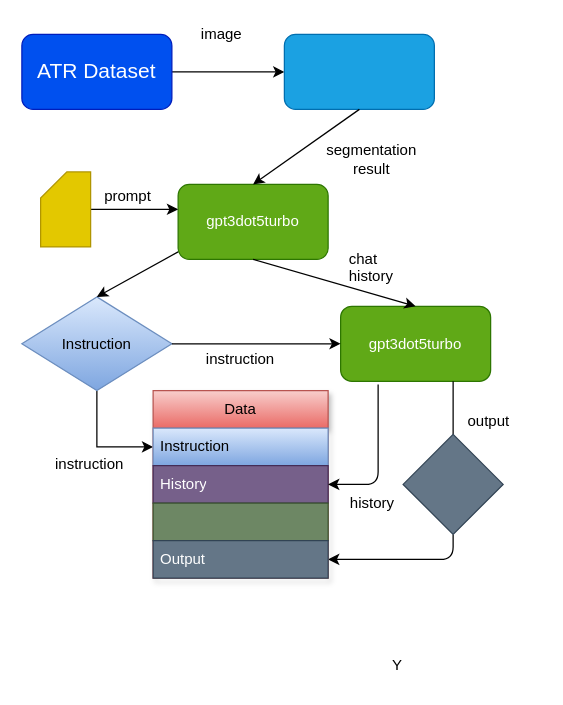
Some shapes in this 563 by 705 pixel diagram are drawn without their labels. The centre of each missing label's shape, as x and y in pixels:
Image Segmentation Model: pixel 358 71
Input: pixel 240 521
valid ?: pixel 452 483
